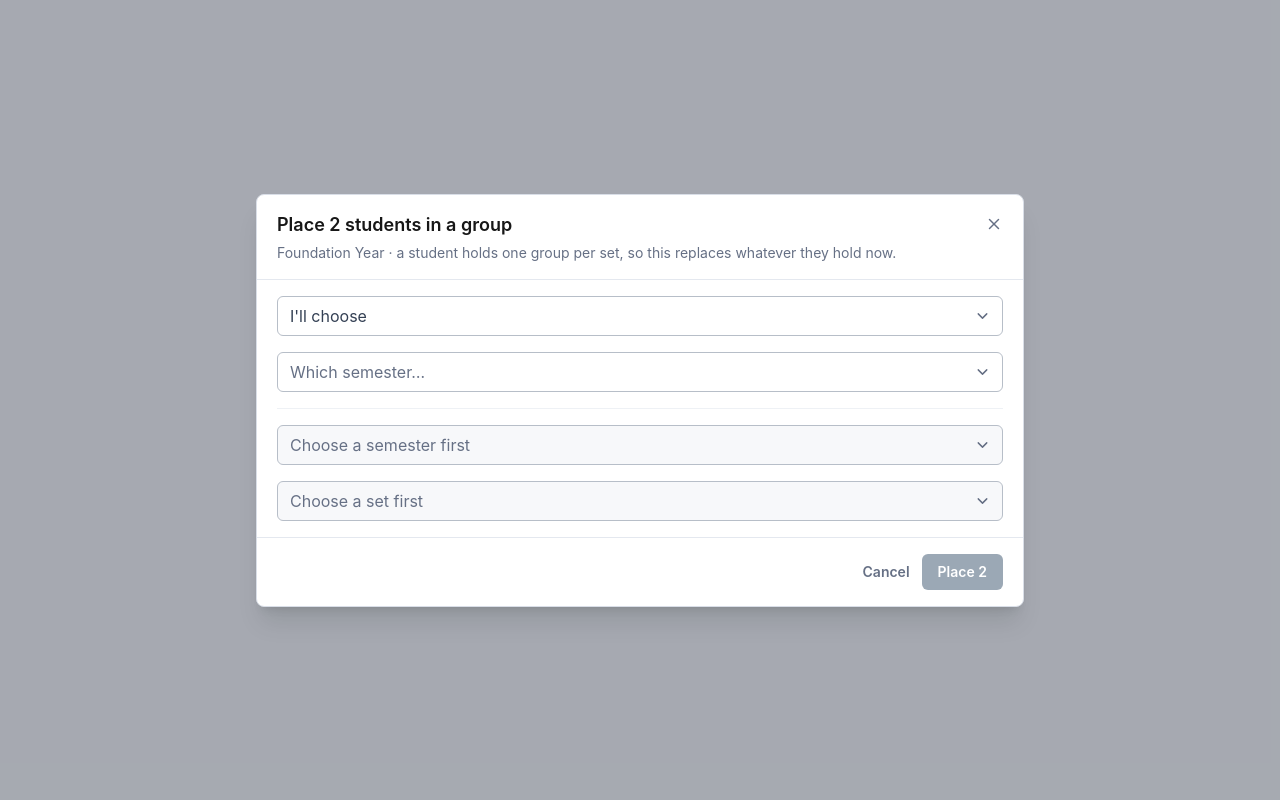
it: groups nobody should be placed into › does not offer a group whose every section is retired
This screenshot has width=1280, height=800.
Click the dropdown labelled "semester" at {"x": 358, "y": 372}, box [277,352,1003,392]
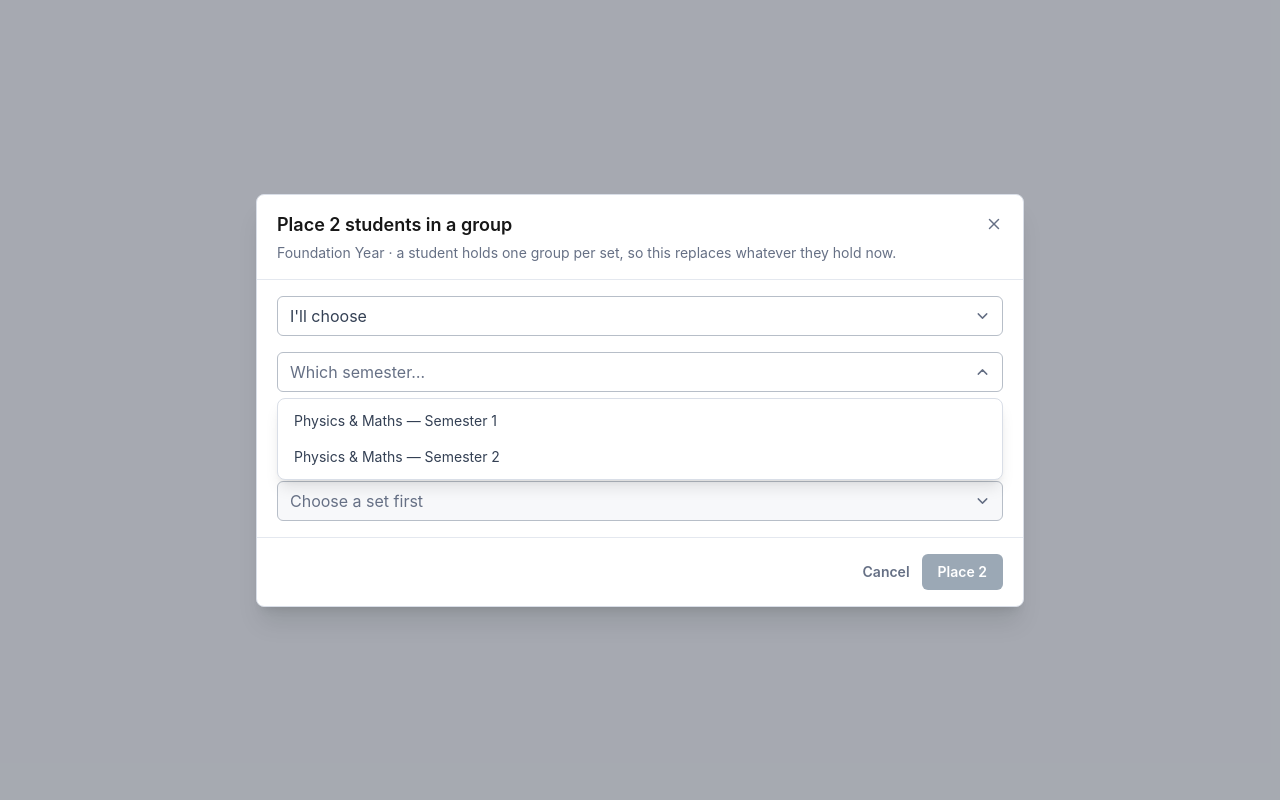
Click the option "Physics & Maths — Semester 1" at {"x": 396, "y": 420}, box [282,403,998,439]
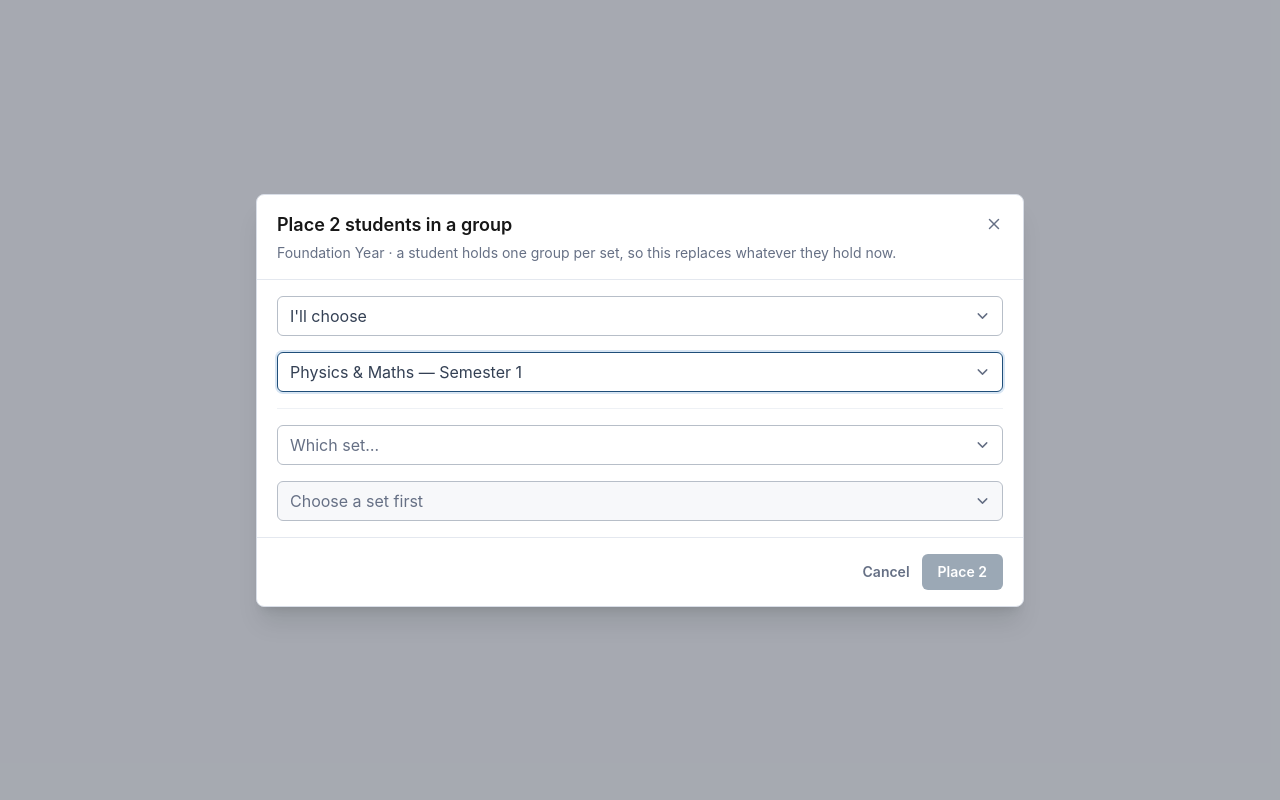
Expected: the dropdown named "Block" is enabled
Click the dropdown named "Block" at {"x": 335, "y": 444}, box [277,424,1003,464]
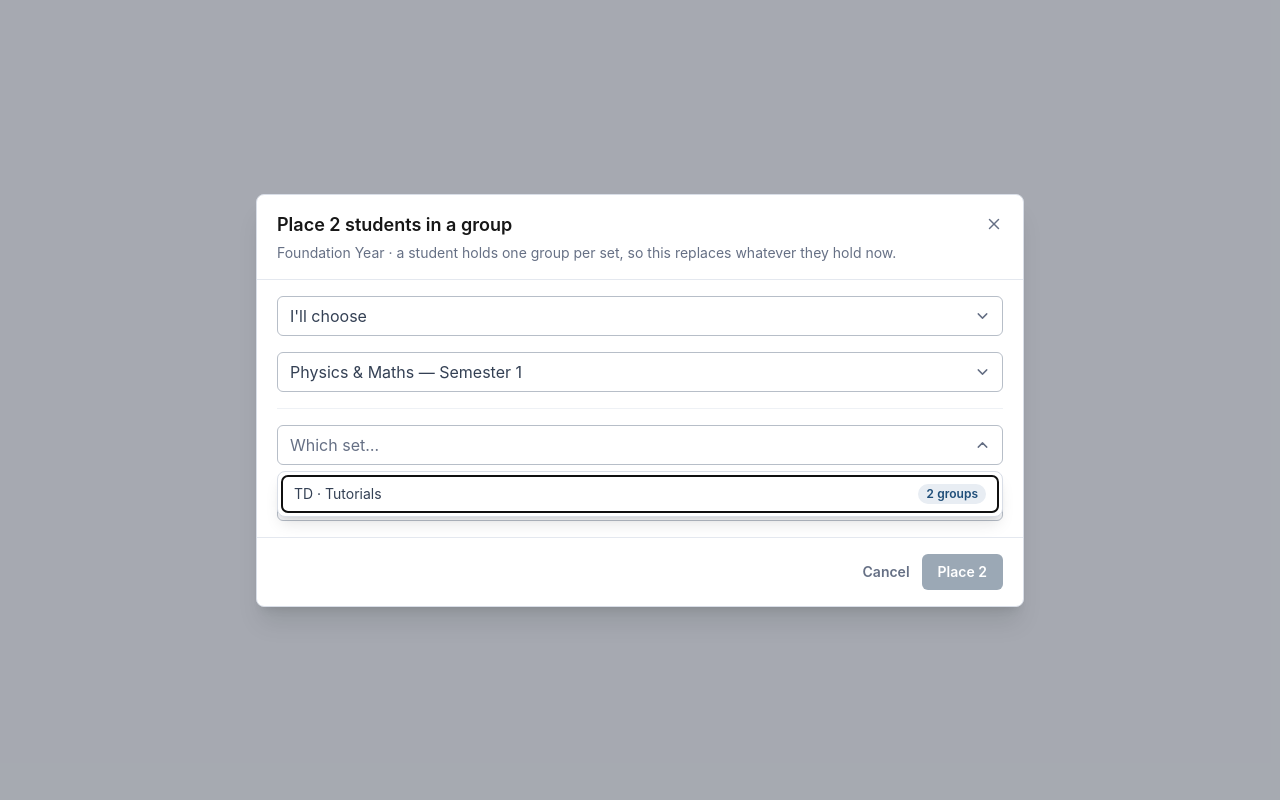
Click the option "TD · Tutorials 2 groups" at {"x": 338, "y": 494}, box [282,476,998,512]
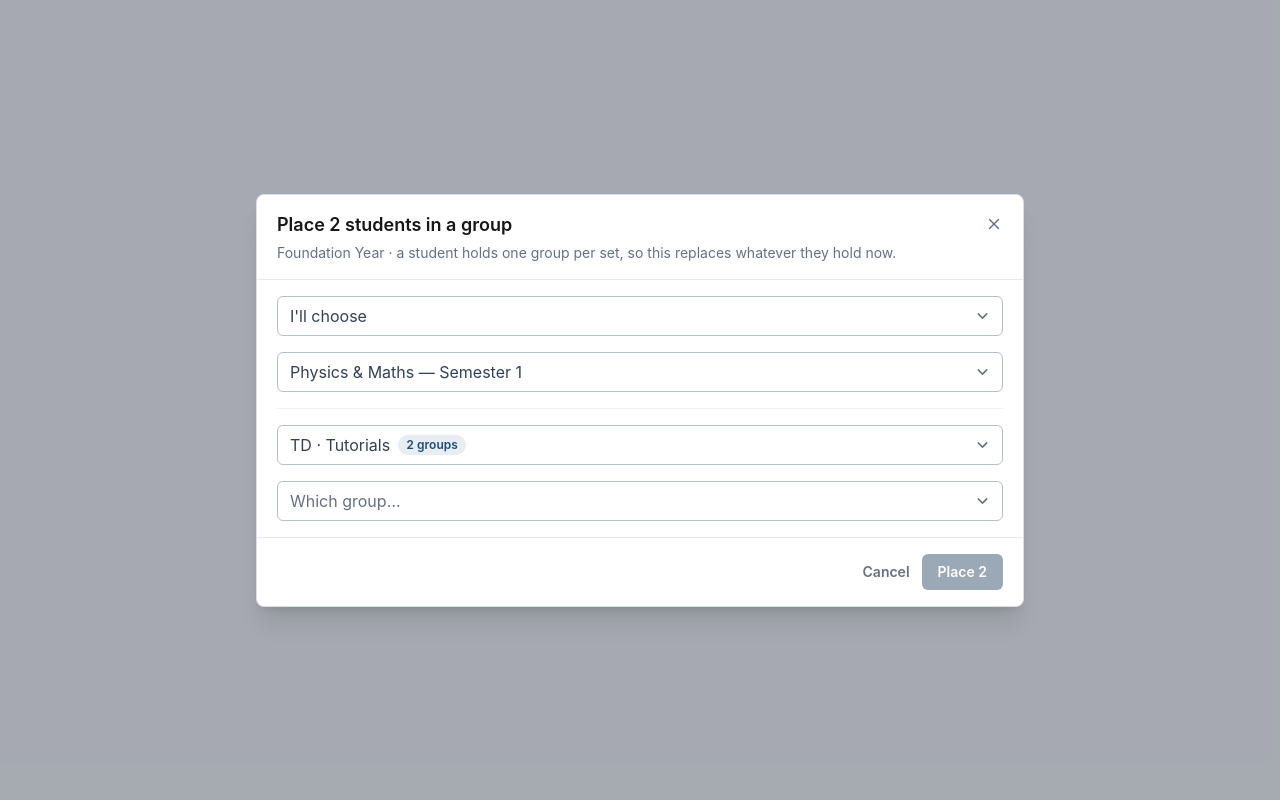
Click the dropdown labelled "group" at {"x": 345, "y": 500}, box [277,480,1003,520]
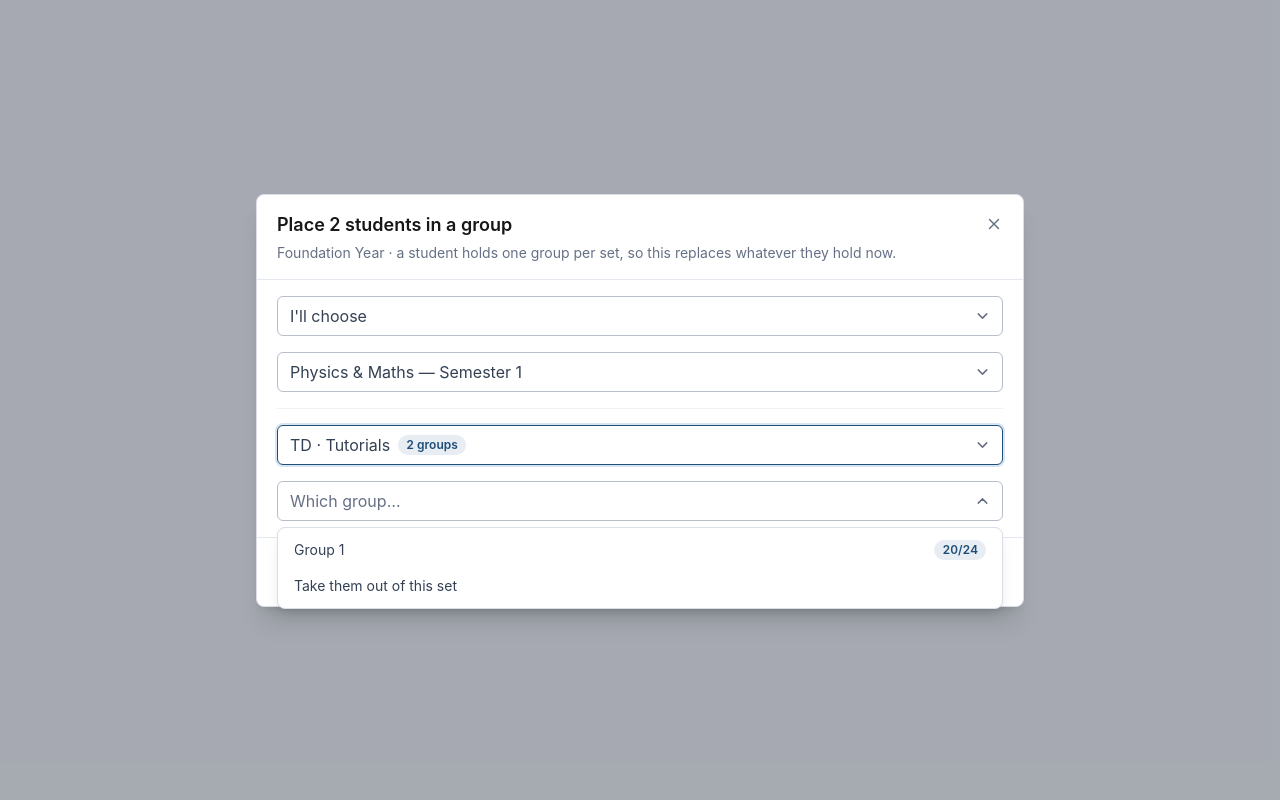
Expected: the option "Group 1 20/24" is shown, [282,532,998,568]
